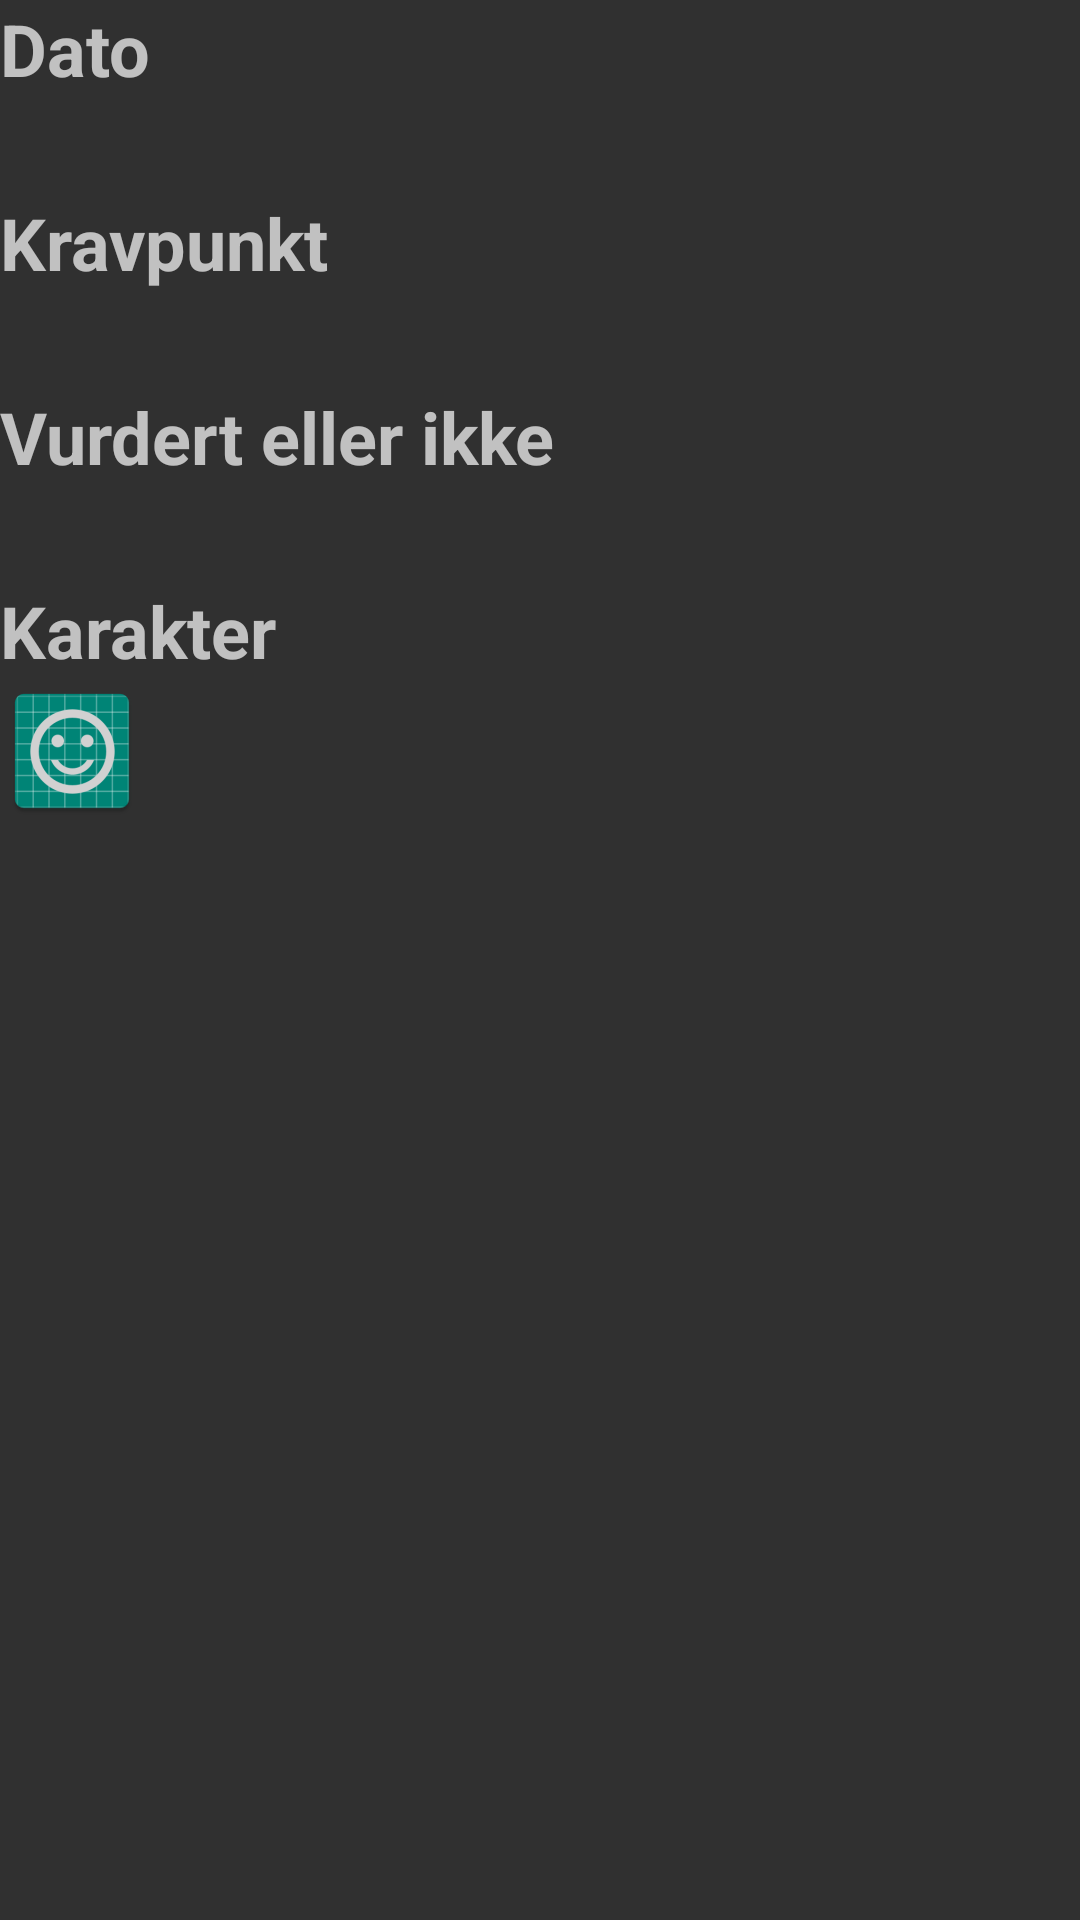

Named icons in this screenshot (1080px x 1920px) and their centers, point (x, y):
smil: point (72, 751)
